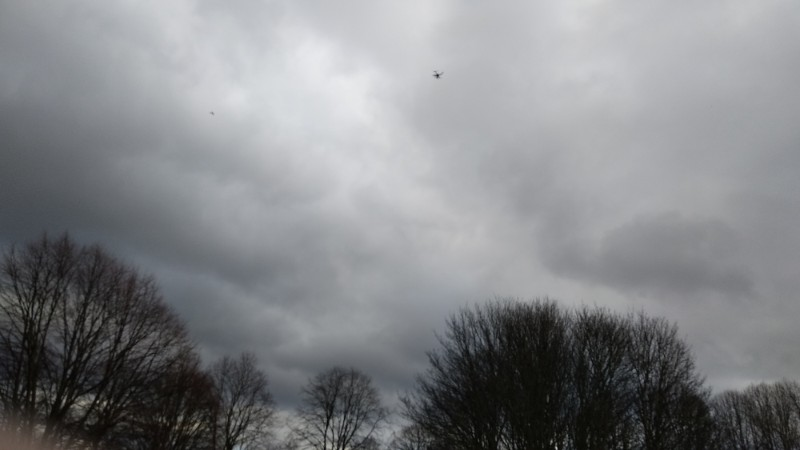drone: (432, 70, 443, 80)
